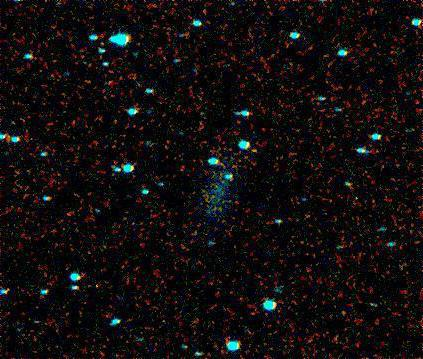star: (239, 137, 269, 167)
